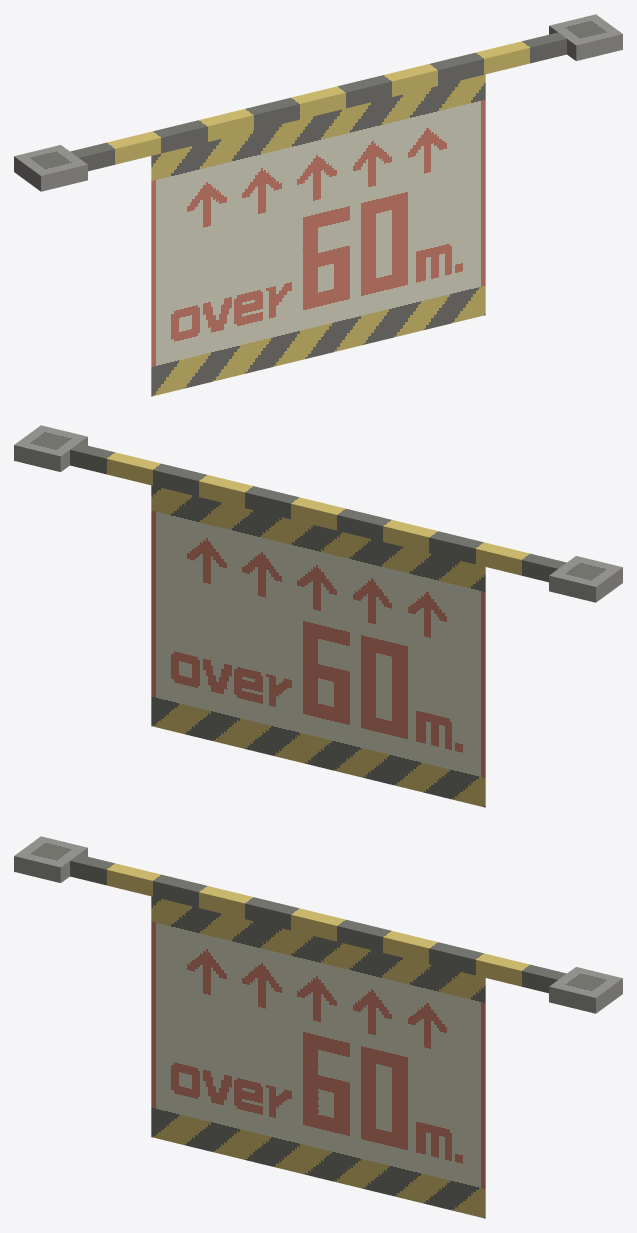
Rendered from 0341_Over_60m_Sign.glb.
The picture shows the model from 3 angles, top to bottom: view 1: azimuth 30°, elevation 25°; view 2: azimuth 150°, elevation 25°; view 3: azimuth 330°, elevation 25°; orthographic projection.
Visible parts, largest first — view 1: part_0; view 2: part_0; view 3: part_0.
Part boxes in pixels (x1,y1,x2,y2): part_0: [14, 14, 622, 396]; part_0: [14, 425, 622, 807]; part_0: [14, 836, 622, 1218].
Bounding box in the file's own units: 52.2 × 22.35 × 4.2.
Materials: 1 (1 with a texture image).
